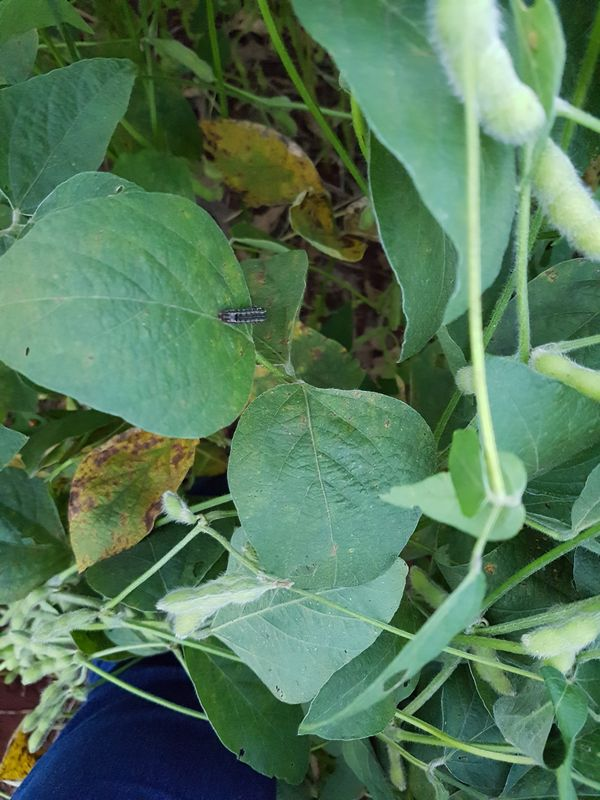Spodoptera_albula: (208, 289, 275, 340)
